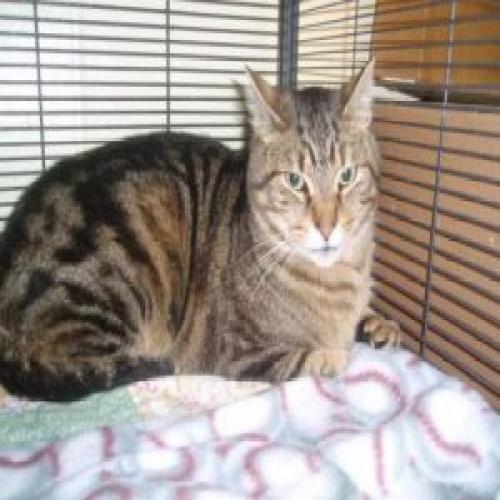bengal: (242, 55, 388, 270)
